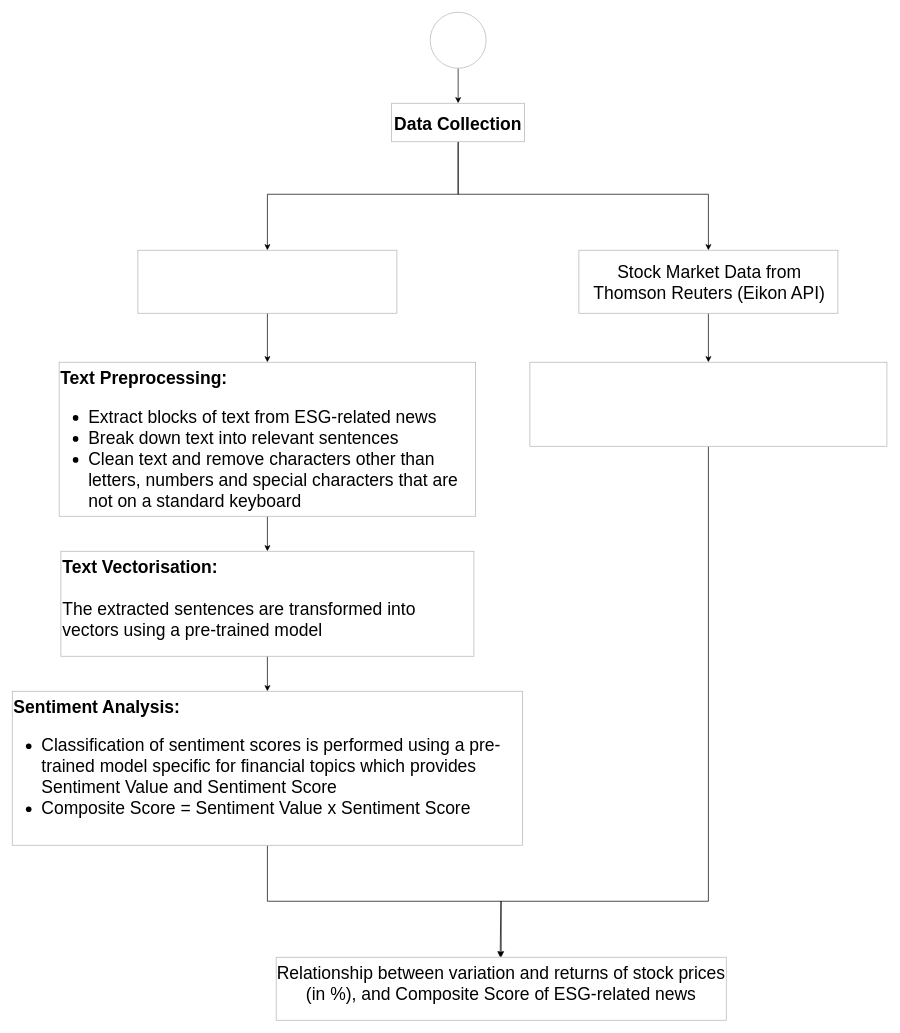
This 900x1033 diagram has some shape labels left out. Each missing label, with the centre of its shape:
"Daily Stock prices time series Daily Stock returns time series" belongs at (708,404).
"ESG-related news from Thomson Reuters (Eikon API)" belongs at (267,281).
"Start" belongs at (457,40).
